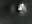person: (19, 3, 28, 18), (11, 3, 16, 17)
